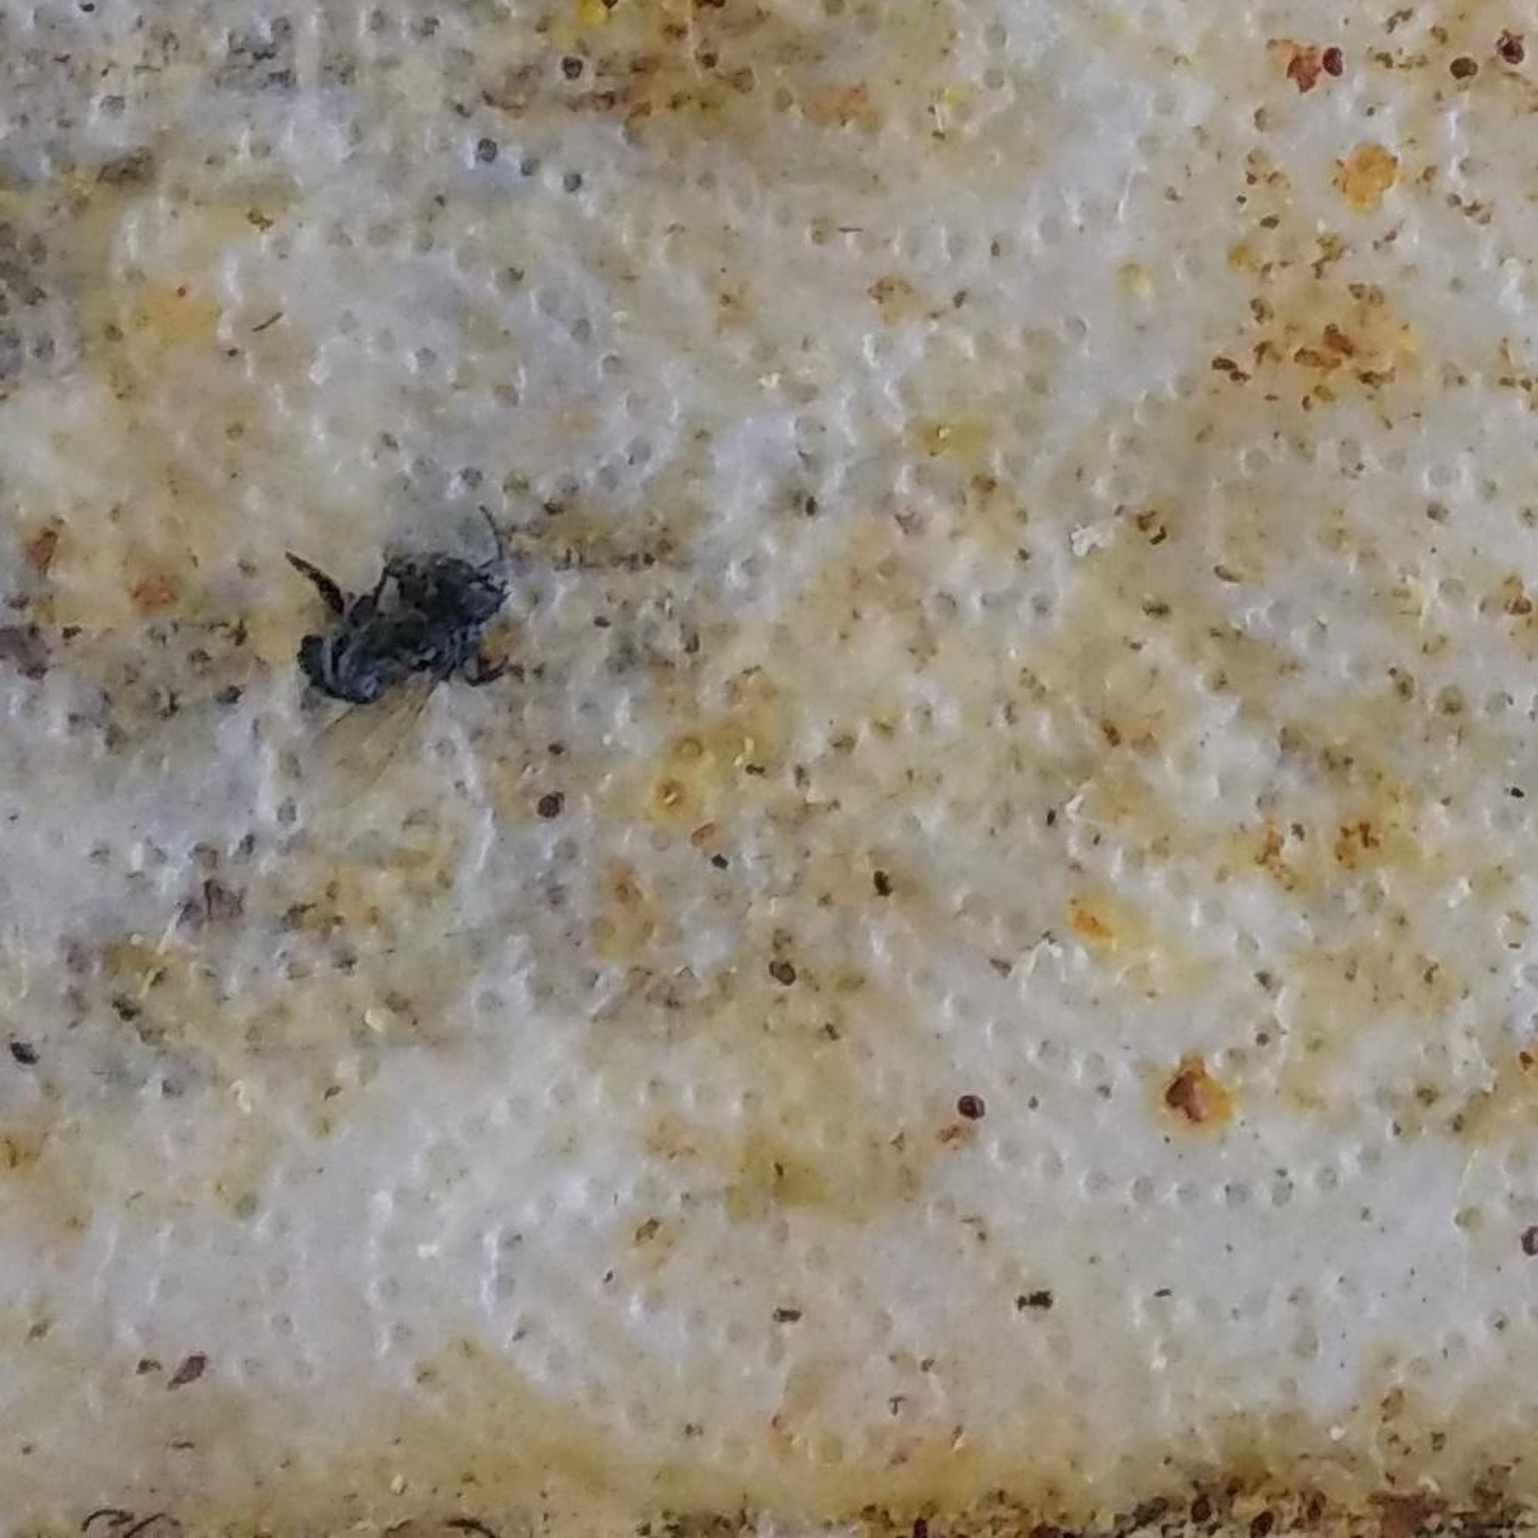Varroa: (537, 790, 568, 820), (1492, 38, 1523, 68), (954, 1096, 982, 1125), (1320, 46, 1345, 73), (1451, 55, 1475, 79)
